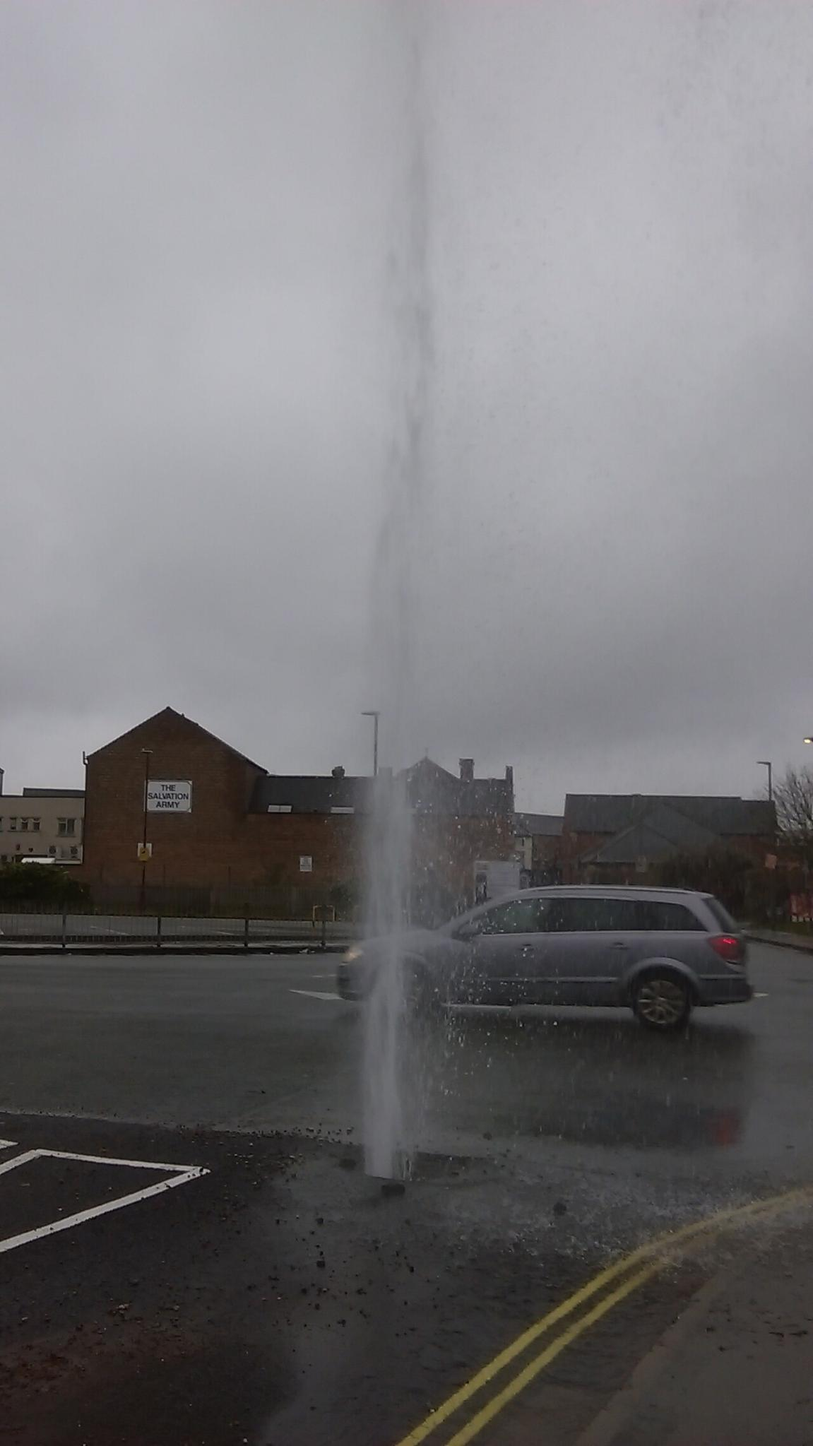pipe burst: (356, 18, 434, 1178)
